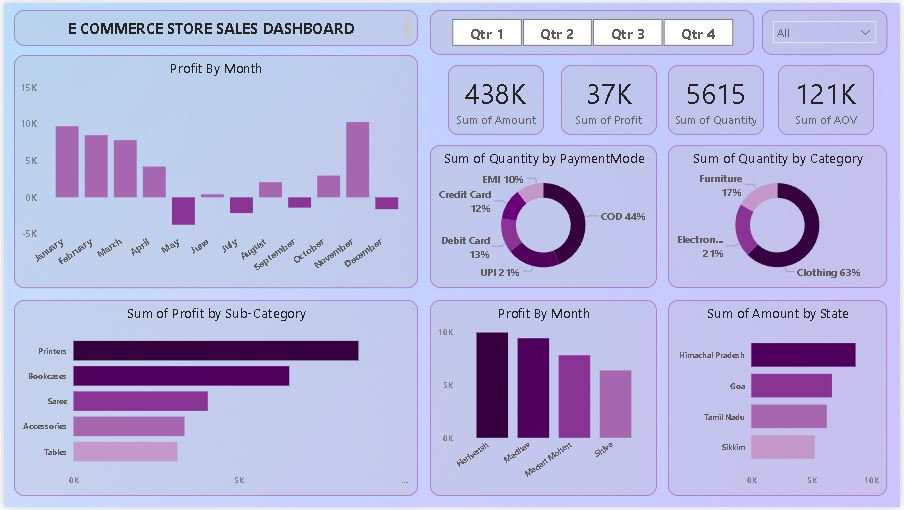

This screenshot's page, from the dashboard's own definition file:
{"tool":"powerbi","page":{"name":"sagar","canvas":[1280,720],"ordinal":0},"visuals":[{"type":"textbox","box":[14.3,10,577.1,51.4],"z":0},{"type":"columnChart","title":"Profit By Month","fields":{"Category":["Orders.Order Date.Variation.Date Hierarchy.Month"],"Y":["Details.Profit"]},"box":[14.3,74.3,577.1,332.9],"z":1000},{"type":"barChart","fields":{"Category":["Details.Sub-Category"],"Y":["Details.Profit"]},"box":[14.3,424.3,577.1,280],"z":2000},{"type":"donutChart","fields":{"Category":["Details.Category"],"Y":["Details.Quantity"]},"box":[948.6,202.9,312.9,204.3],"z":3000},{"type":"donutChart","fields":{"Y":["Details.Quantity"],"Category":["Details.PaymentMode"]},"box":[608.6,202.9,324.3,204.3],"z":4000},{"type":"card","fields":{"Values":["Details.Amount"]},"box":[634.3,88.6,137.1,100],"z":5000},{"type":"card","fields":{"Values":["Details.Quantity"]},"box":[948.6,88.6,137.1,100],"z":6000},{"type":"card","fields":{"Values":["Details.Profit"]},"box":[795.7,88.6,137.1,100],"z":7000},{"type":"card","fields":{"Values":["Details.AOV"]},"box":[1105.7,88.6,137.1,100],"z":8000},{"type":"barChart","fields":{"Category":["Orders.State"],"Y":["Details.Amount"]},"box":[948.6,424.3,312.9,280],"z":9000},{"type":"columnChart","title":"Profit By Month","fields":{"Category":["Orders.CustomerName"],"Y":["Details.Amount"]},"box":[608.6,424.3,324.3,280],"z":10000},{"type":"slicer","fields":{"Values":["Orders.Order Date.Variation.Date Hierarchy.Quarter"]},"box":[608.6,10,462.9,64.3],"z":11000},{"type":"slicer","fields":{"Values":["Orders.State"]},"box":[1082.9,10,178.6,64.3],"z":12000}]}

Visuals, with their boxes in screenshot pixels (x1, y1, x2, y2), scaled from the page's 1280x720 canvas onto the 904x510 screenshot:
textbox: bbox=[10, 7, 418, 43]
"Profit By Month" columnChart: bbox=[10, 53, 418, 288]
barChart - Details.Sub-Category x Details.Profit: bbox=[10, 301, 418, 499]
donutChart - Details.Category x Details.Quantity: bbox=[670, 144, 891, 288]
donutChart - Details.Quantity x Details.PaymentMode: bbox=[430, 144, 659, 288]
card - Details.Amount: bbox=[448, 63, 545, 134]
card - Details.Quantity: bbox=[670, 63, 767, 134]
card - Details.Profit: bbox=[562, 63, 659, 134]
card - Details.AOV: bbox=[781, 63, 878, 134]
barChart - Orders.State x Details.Amount: bbox=[670, 301, 891, 499]
"Profit By Month" columnChart: bbox=[430, 301, 659, 499]
slicer - Orders.Order Date.Variation.Date Hierarchy.Quarter: bbox=[430, 7, 757, 53]
slicer - Orders.State: bbox=[765, 7, 891, 53]
